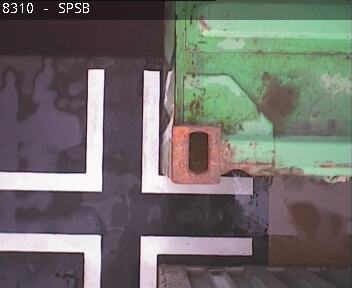groundmarker_1: (1, 70, 259, 195)
